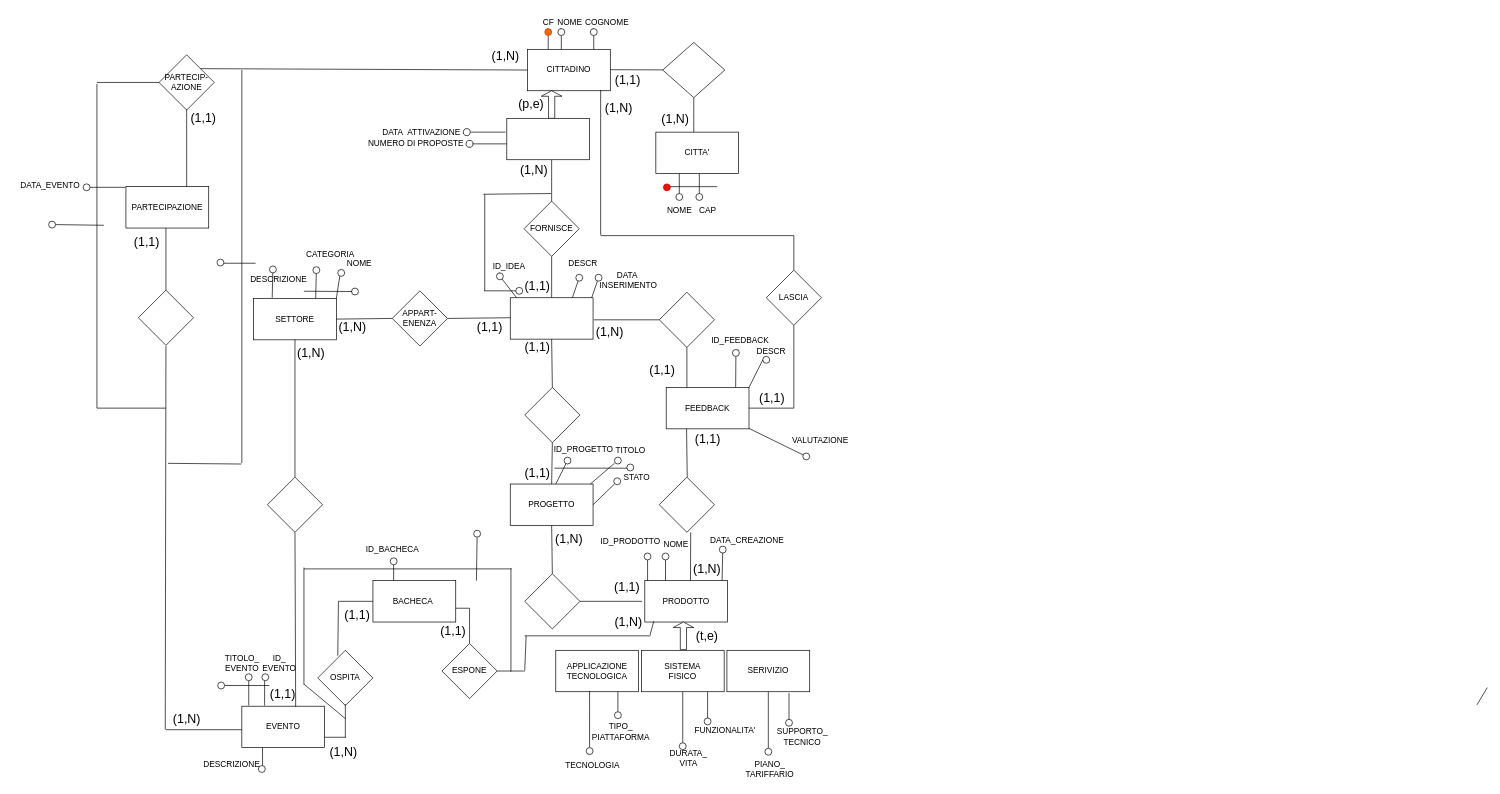
The diagram is 1500 pixels wide and 794 high, and some of its shapes have lost their labels. Each missing label, with the centre of its shape:
"BASATO SU" belongs at pixel 552 415.
"CITTADINO ATTIVO" belongs at pixel 548 139.
"COMMENTA" belongs at pixel 686 319.
"DA ORIGINE" belongs at pixel 552 601.
"E-P" belongs at pixel 166 317.
"IDEA" belongs at pixel 551 318.
"RESIDENZA" belongs at pixel 693 70.
"S-E" belongs at pixel 295 504.
"VALUTA- ZIONE" belongs at pixel 686 504.
